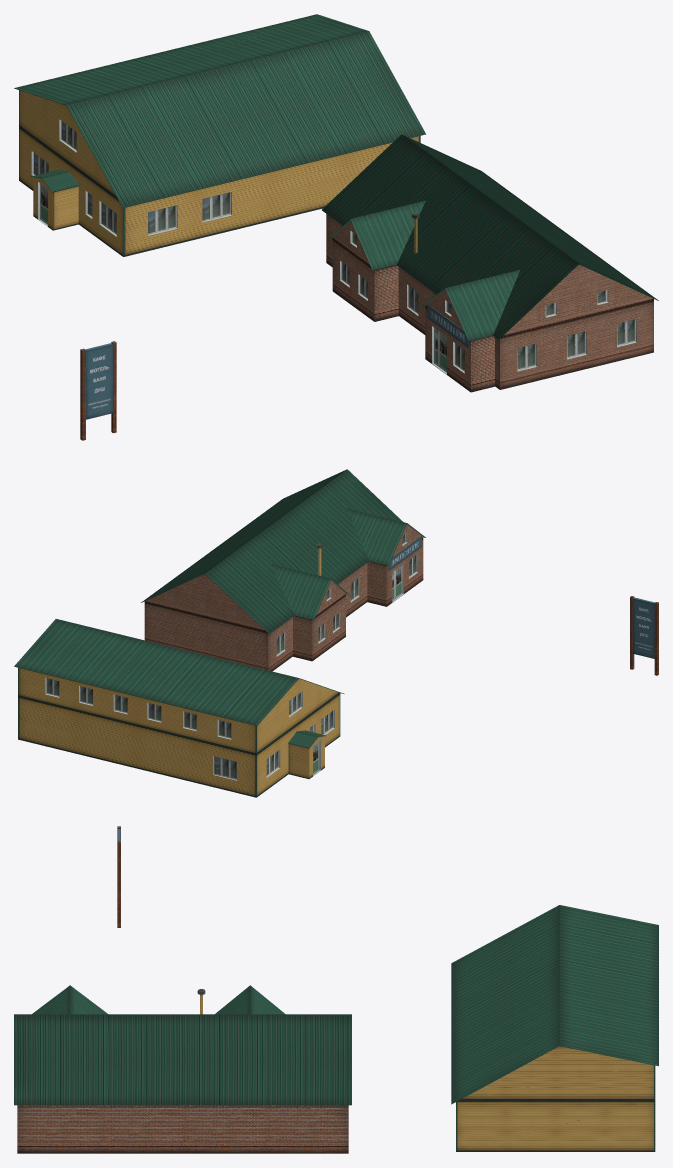
File: r402_yaman_motel.FBX
3 renders of one model, top to bottom at view 1: azimuth 30°, elevation 25°; view 2: azimuth 150°, elevation 25°; view 3: azimuth 270°, elevation 25°, orthographic. The views are drawn at different scales.
Visible parts, largest first — view 1: 2, 1, 3; view 2: 2, 1, 3; view 3: 1, 2.
Part boxes in pixels (x1,y1,x2,y2): 2: [14, 14, 425, 256]; 1: [322, 134, 658, 392]; 3: [80, 341, 116, 440]; 2: [14, 619, 344, 797]; 1: [141, 469, 425, 671]; 3: [630, 596, 658, 675]; 1: [14, 985, 351, 1153]; 2: [451, 905, 658, 1151].
Bounding box in the file's own units: 30.39 × 34.11 × 6.3.
